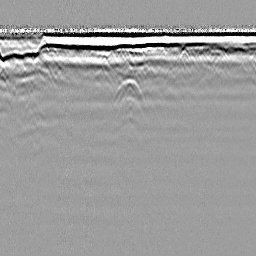cavity: (112, 76, 146, 104)
